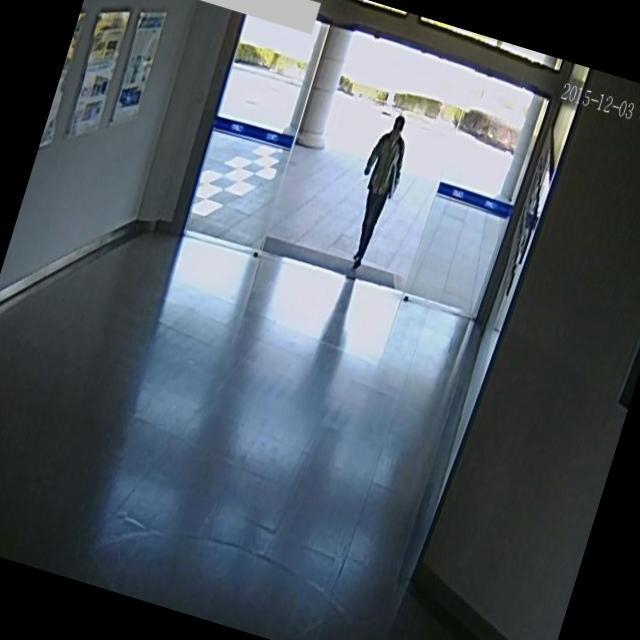person: (326, 100, 427, 279)
